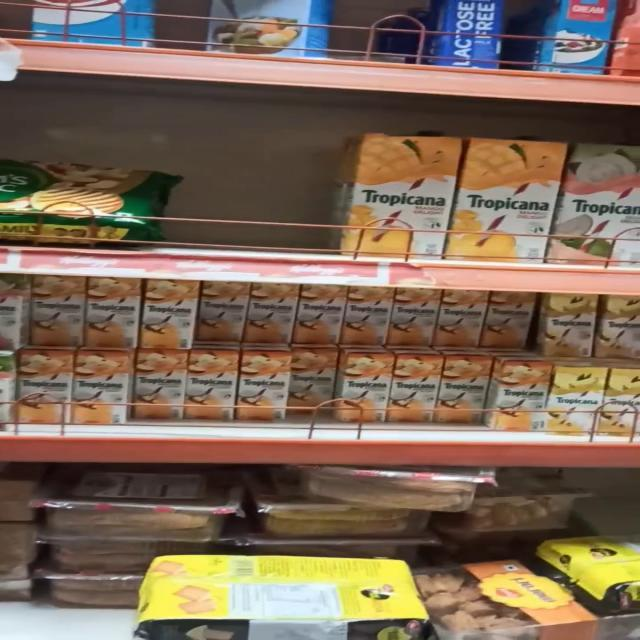Tropicana: (461, 130, 562, 262), (348, 129, 450, 253), (18, 352, 79, 422), (492, 355, 550, 428), (72, 351, 130, 423), (142, 280, 198, 354), (22, 279, 81, 346), (86, 279, 140, 350), (338, 350, 392, 420), (437, 350, 487, 424), (555, 365, 611, 431), (387, 352, 442, 418), (138, 354, 188, 421), (292, 284, 346, 346), (544, 295, 598, 356), (233, 353, 283, 418), (190, 350, 240, 415), (438, 290, 494, 348), (341, 284, 392, 346), (250, 282, 300, 345), (288, 348, 334, 412), (202, 281, 247, 344), (486, 291, 532, 348), (391, 286, 434, 344)
